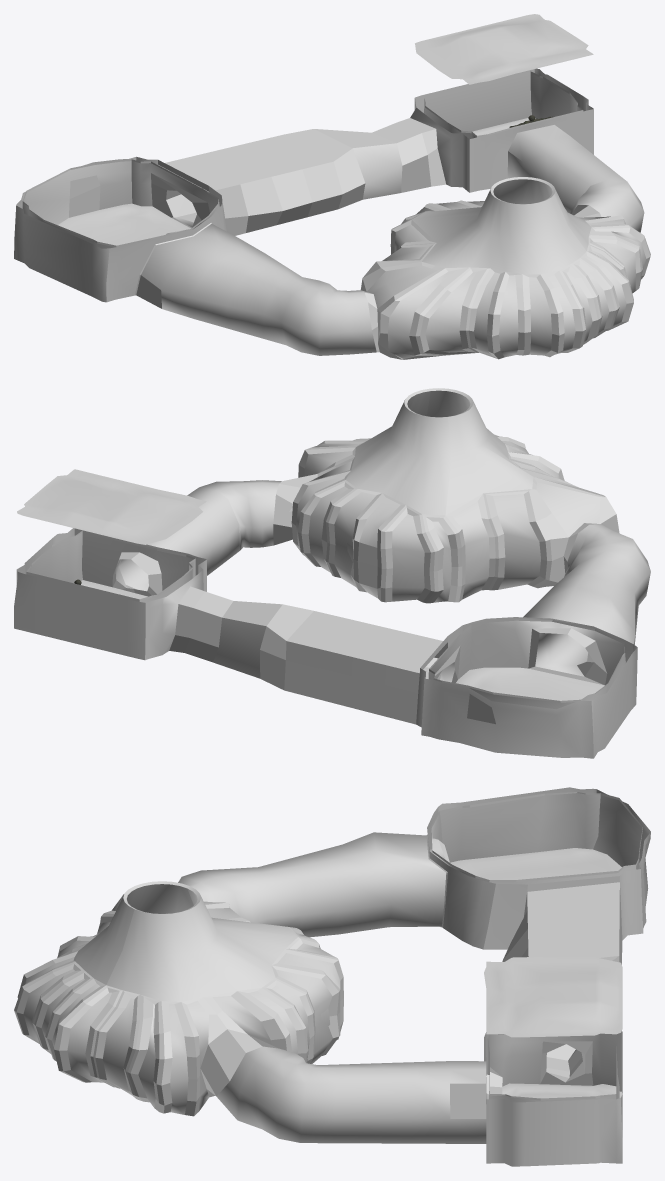
Rendered from room1.FBX.
3 views of the same model, one above another, from view 1: azimuth 30°, elevation 25°; view 2: azimuth 150°, elevation 25°; view 3: azimuth 270°, elevation 25° (orthographic). The views are drawn at different scales.
Parts seen in each view (by area): view 1: Torus002, Top; view 2: Torus002, Top; view 3: Torus002, Top.
Boxes of the visible parts, x1,y1,x2,y2 form: Torus002: (14, 68, 650, 359); Top: (415, 14, 593, 84); Torus002: (14, 388, 650, 758); Top: (17, 469, 206, 544); Torus002: (14, 787, 650, 1166); Top: (484, 957, 622, 1037).
Size of the model in its own units: 1152 by 273 by 984.
